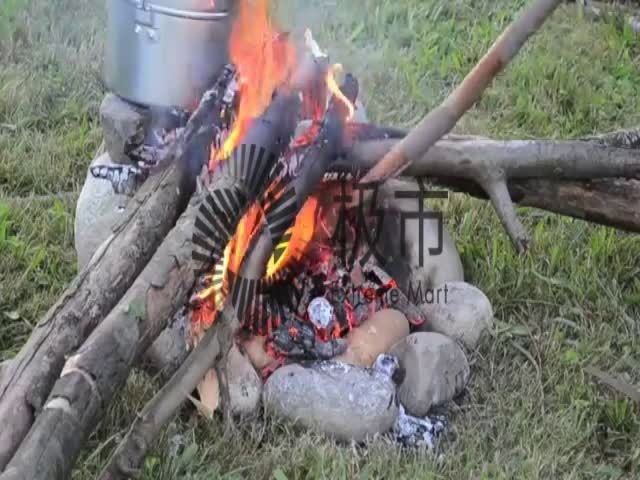fire: (192, 3, 360, 304)
